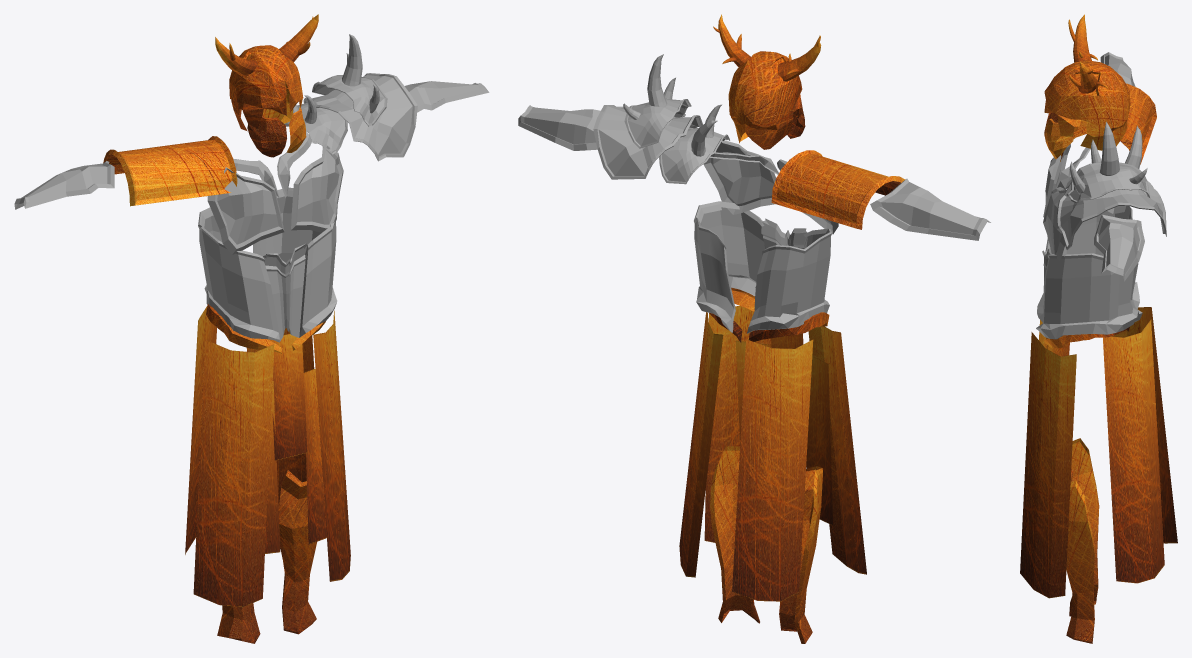
File: armor fbx.fbx
3 renders of one model, left to right at view 1: azimuth 30°, elevation 25°; view 2: azimuth 150°, elevation 25°; view 3: azimuth 270°, elevation 25°, orthographic. The views are drawn at different scales.
Visible parts, largest first — view 1: R_grotecape, TORSO, R_SHOULDER, Mesh_HELMET, Mesh_L_Grotecape, Mesh_L_Beenplaat, Mesh_Group25475, Mesh_L_CHESTPLATE, Middencape, R_CHEASTPLATE, Mesh_L_MIDcape, R_achtercape (+11 smaller); view 2: R_achtercape, TORSO, R_grotecape, R_SHOULDER, Mesh_HELMET, Mesh_L_actercape, Mesh_L_Grotecape, Mesh_Group25475, R_UNDERARM, Mesh_L_Beenplaat, R_CHEASTPLATE, R_beenplaat (+7 smaller); view 3: Mesh_L_actercape, Mesh_L_Grotecape, TORSO, Mesh_HELMET, Mesh_L_Beenplaat, Mesh_Group25475, R_achtercape, R_Arm, Mesh_Group25476, R_beenplaat, R_SHOULDER, R_CHEASTPLATE (+10 smaller).
Part boxes in pixels (x1=…): R_grotecape: x1=193, y1=340, x2=274, y2=607; TORSO: x1=198, y1=187, x2=337, y2=342; R_SHOULDER: x1=103, y1=136, x2=237, y2=206; Mesh_HELMET: x1=229, y1=45, x2=306, y2=157; Mesh_L_Grotecape: x1=313, y1=310, x2=350, y2=581; Mesh_L_Beenplaat: x1=278, y1=470, x2=316, y2=634; Mesh_Group25475: x1=303, y1=73, x2=417, y2=161; Mesh_L_CHESTPLATE: x1=207, y1=167, x2=284, y2=254; Middencape: x1=269, y1=334, x2=307, y2=460; R_CHEASTPLATE: x1=291, y1=144, x2=343, y2=232; Mesh_L_MIDcape: x1=303, y1=368, x2=326, y2=544; R_achtercape: x1=185, y1=306, x2=216, y2=554; R_achtercape: x1=732, y1=339, x2=813, y2=601; TORSO: x1=694, y1=201, x2=831, y2=333; R_grotecape: x1=808, y1=326, x2=866, y2=574; R_SHOULDER: x1=771, y1=150, x2=905, y2=229; Mesh_HELMET: x1=728, y1=51, x2=805, y2=149; Mesh_L_actercape: x1=679, y1=312, x2=723, y2=577; Mesh_L_Grotecape: x1=704, y1=306, x2=771, y2=542; Mesh_Group25475: x1=593, y1=105, x2=702, y2=179; R_UNDERARM: x1=870, y1=178, x2=990, y2=240; Mesh_L_Beenplaat: x1=710, y1=446, x2=759, y2=623; R_CHEASTPLATE: x1=703, y1=140, x2=775, y2=214; R_beenplaat: x1=779, y1=466, x2=822, y2=643; Mesh_L_actercape: x1=1103, y1=319, x2=1164, y2=583; Mesh_L_Grotecape: x1=1020, y1=332, x2=1076, y2=598; TORSO: x1=1036, y1=206, x2=1142, y2=339; Mesh_HELMET: x1=1044, y1=60, x2=1130, y2=159; Mesh_L_Beenplaat: x1=1066, y1=479, x2=1094, y2=643; Mesh_Group25475: x1=1056, y1=182, x2=1166, y2=249; R_achtercape: x1=1112, y1=307, x2=1177, y2=543; R_Arm: x1=1094, y1=214, x2=1144, y2=281; Mesh_Group25476: x1=1066, y1=162, x2=1149, y2=203; R_beenplaat: x1=1069, y1=438, x2=1099, y2=616; R_SHOULDER: x1=1060, y1=83, x2=1156, y2=164; R_CHEASTPLATE: x1=1043, y1=187, x2=1066, y2=260.
Size of the model in its own units: 4.12 by 5.15 by 1.25.
